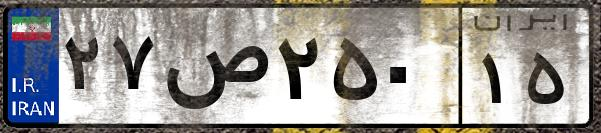0: (385, 28, 445, 110)
1: (475, 38, 525, 113)
2: (270, 28, 330, 110), (57, 26, 110, 100)
5: (330, 28, 385, 110), (525, 38, 570, 115)
7: (110, 28, 158, 98)
ص: (158, 20, 270, 120)
